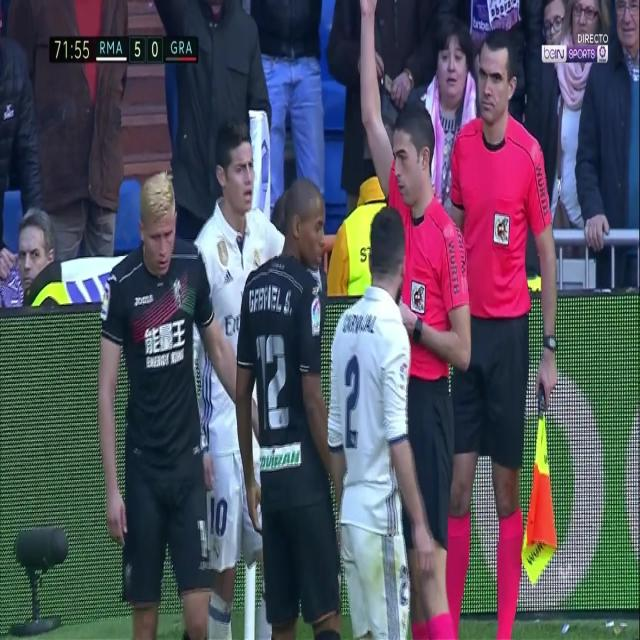Player: (95, 169, 237, 640), (234, 179, 346, 640), (326, 201, 439, 640), (192, 114, 282, 640)
Referee: (357, 0, 474, 640), (445, 25, 561, 638)
